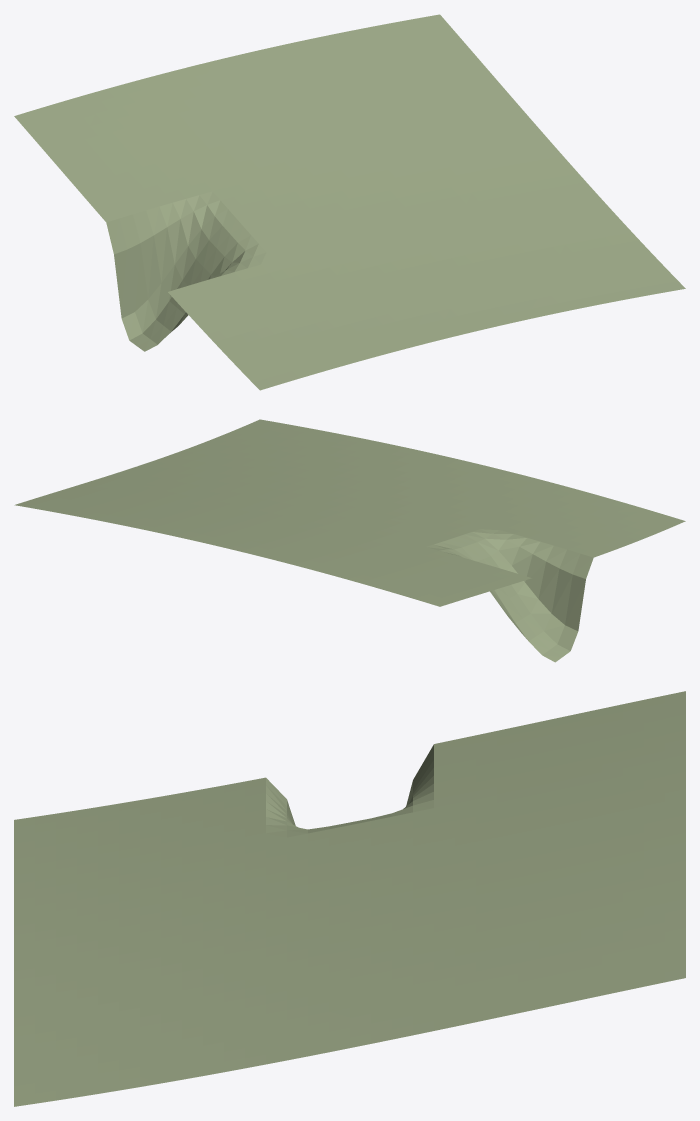
The model's file is valley-15-2.glb.
3 renders of one model, top to bottom at view 1: azimuth 30°, elevation 25°; view 2: azimuth 150°, elevation 25°; view 3: azimuth 270°, elevation 25°, orthographic. The views are drawn at different scales.
Parts seen in each view (by area): view 1: valley-15-2; view 2: valley-15-2; view 3: valley-15-2.
Part boxes in pixels (x1,y1,x2,y2): valley-15-2: [14, 14, 685, 390]; valley-15-2: [14, 419, 685, 662]; valley-15-2: [14, 691, 685, 1106].
Bounding box in the file's own units: 256 × 84.18 × 256.
